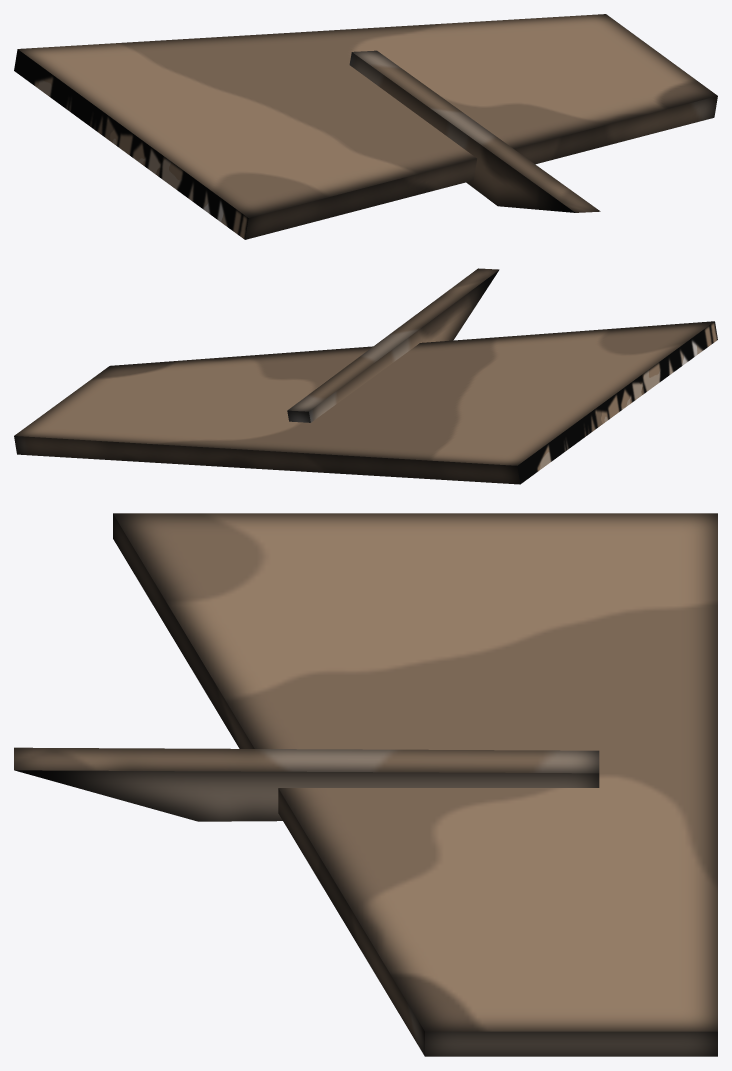
File: F35egerDestructionPart3.fbx
3 views of the same model, one above another, from view 1: azimuth 30°, elevation 25°; view 2: azimuth 150°, elevation 25°; view 3: azimuth 270°, elevation 25° (orthographic). The views are drawn at different scales.
Parts seen in each view (by area): view 1: Flieger__Rumpf_; view 2: Flieger__Rumpf_; view 3: Flieger__Rumpf_.
Part boxes in pixels (<box>): Flieger__Rumpf_: <box>14,14,717,239</box>; Flieger__Rumpf_: <box>14,268,717,484</box>; Flieger__Rumpf_: <box>14,513,717,1056</box>.
Size of the model in its own units: 5.68 by 1.19 by 4.47.
Materials: 1 (1 with a texture image).
